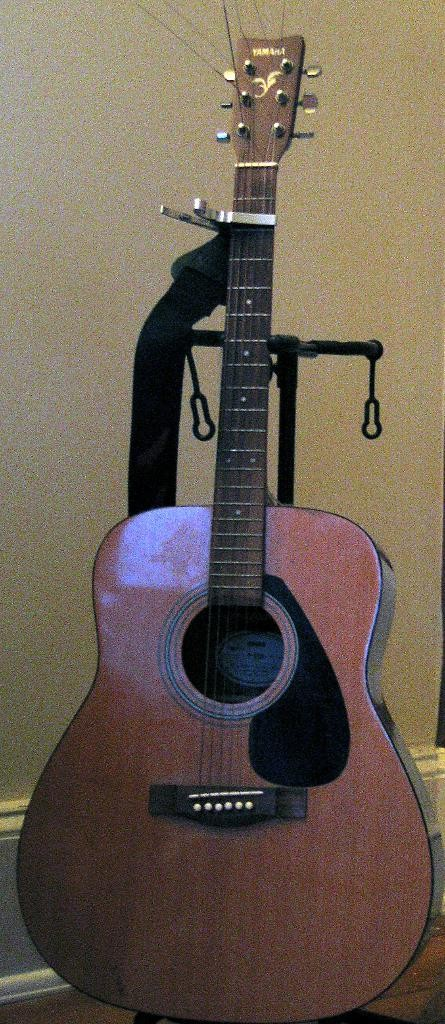guitar: (16, 0, 445, 1024)
